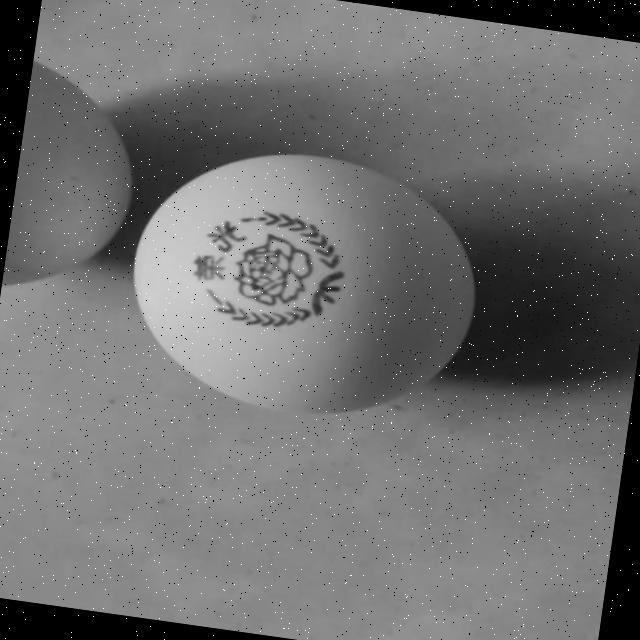ping-pong-ball: (110, 123, 498, 439)
